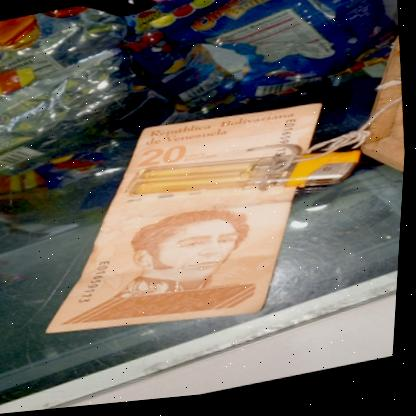twenty-front-vef: (27, 97, 344, 356)
